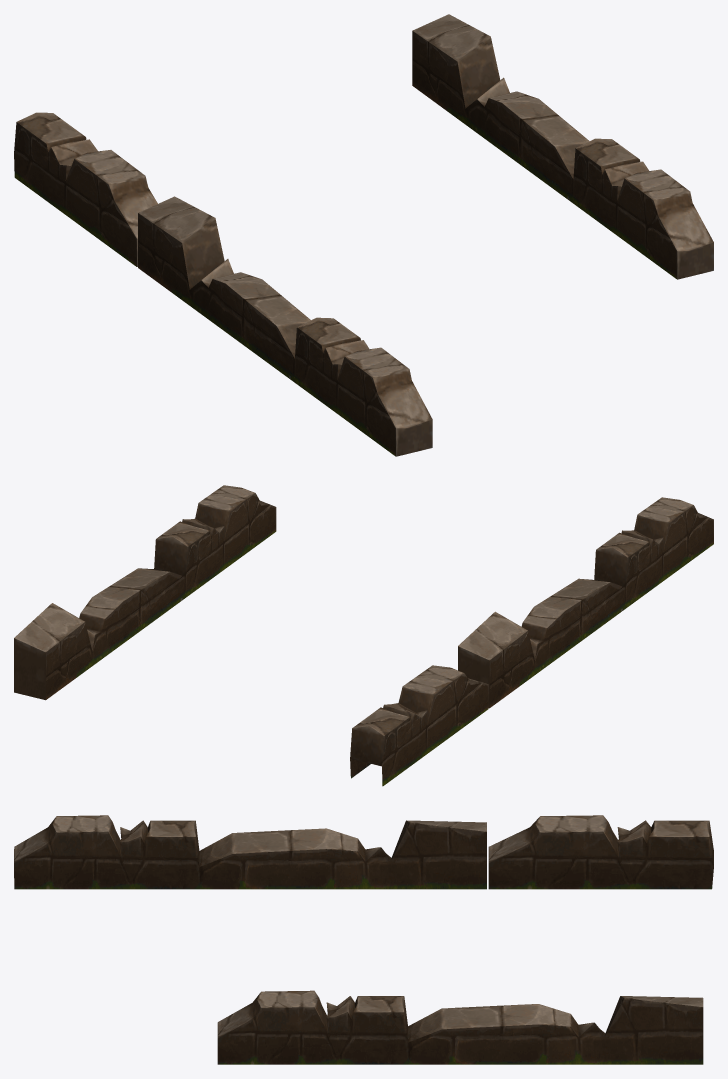
Rendered from yi_poqiang_2.FBX.
3 views of the same model, one above another, from view 1: azimuth 30°, elevation 25°; view 2: azimuth 150°, elevation 25°; view 3: azimuth 270°, elevation 25° (orthographic). The views are drawn at different scales.
Visible parts, largest first — view 1: yi_poqiang_2; view 2: yi_poqiang_2; view 3: yi_poqiang_2.
Boxes of the visible parts, left/top/right/bottom form: yi_poqiang_2: left=14, top=14, right=713, bottom=456; yi_poqiang_2: left=14, top=485, right=713, bottom=786; yi_poqiang_2: left=14, top=815, right=713, bottom=1064.
Size of the model in its own units: 826 by 132 by 1273.
